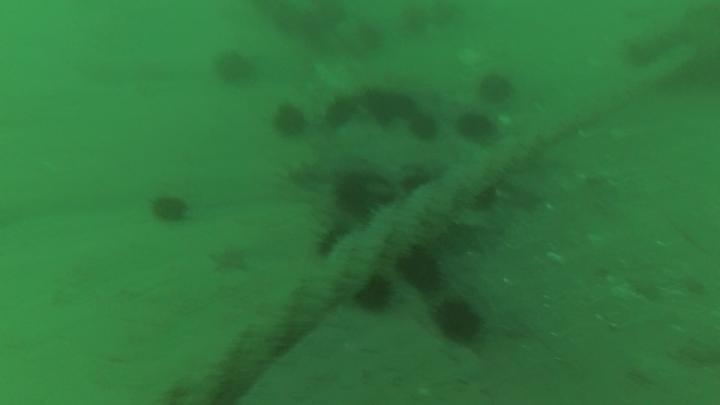echinus: (425, 294, 491, 349), (331, 168, 401, 216), (397, 246, 452, 301), (352, 272, 399, 321), (360, 83, 401, 131), (144, 189, 194, 227), (270, 101, 312, 139), (209, 50, 253, 86), (322, 93, 361, 133), (478, 73, 520, 109), (312, 222, 353, 258), (454, 109, 496, 144), (406, 109, 444, 145)
starfish: (207, 241, 253, 279)
